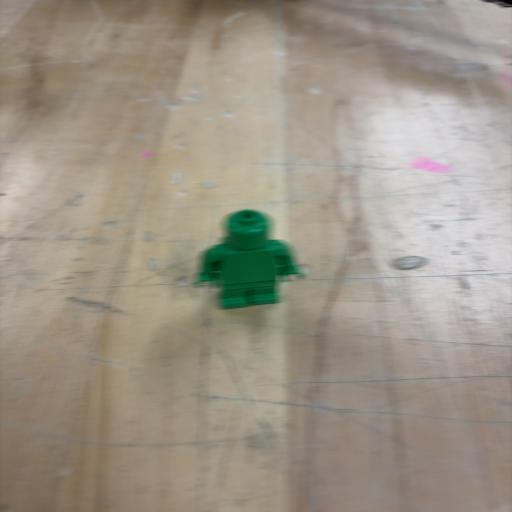Green-Lego: (195, 210, 301, 309)
